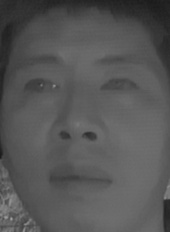eye: (98, 76, 138, 99), (22, 75, 59, 99)
mouth: (45, 158, 113, 199)
